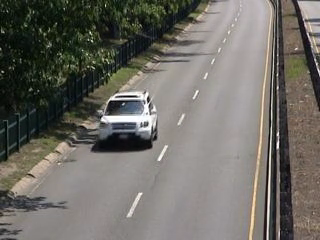car: (92, 87, 166, 152)
